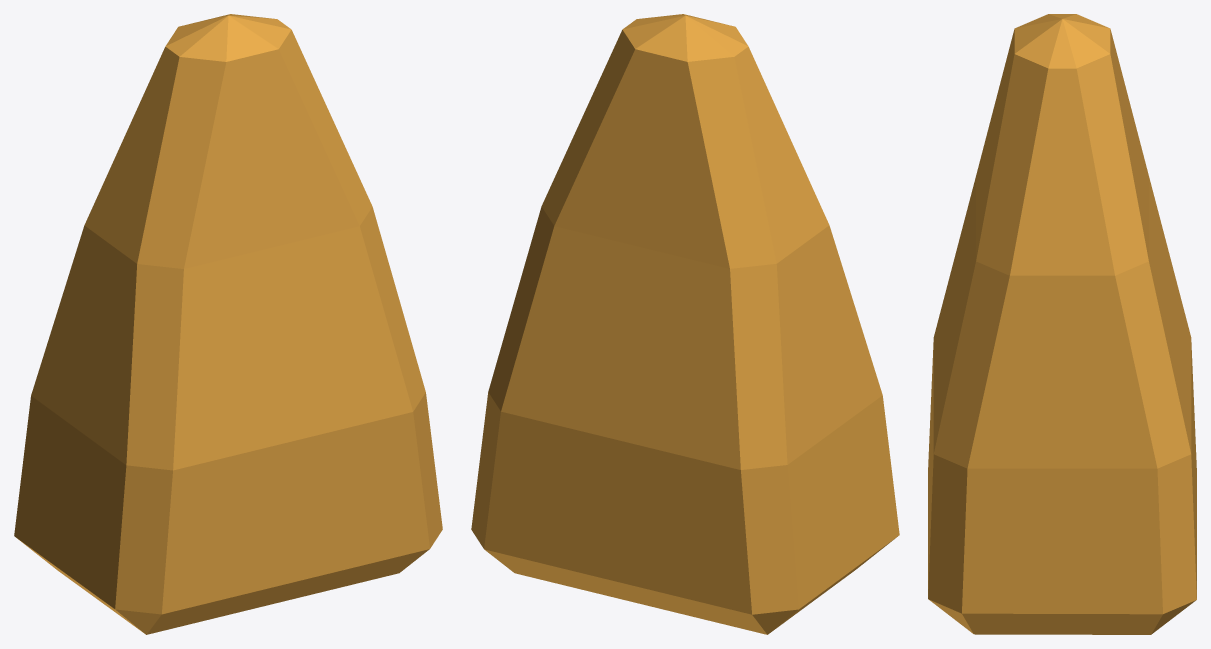
File: candy-corn.fbx
3 views of the same model, side by side, from view 1: azimuth 30°, elevation 25°; view 2: azimuth 150°, elevation 25°; view 3: azimuth 270°, elevation 25° (orthographic).
Parts seen in each view (by area): view 1: candy-corn; view 2: candy-corn; view 3: candy-corn.
Boxes of the visible parts, x1,y1,x2,y2 form: candy-corn: (14,14,442,634); candy-corn: (471,14,899,634); candy-corn: (928,14,1196,634).
Size of the model in its own units: 0.02 by 0.0324 by 0.0142.
